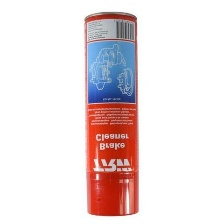aerosol_cans: (81, 9, 140, 220)
